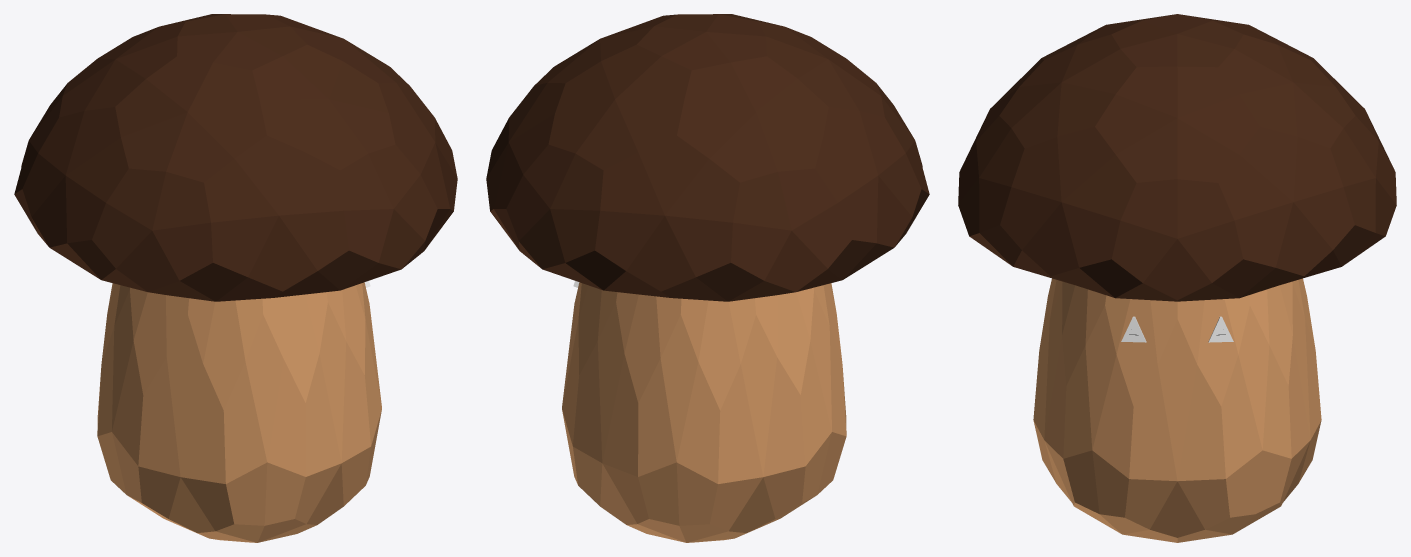
The model's file is mainPlayer.glb.
3 renders of one model, left to right at view 1: azimuth 30°, elevation 25°; view 2: azimuth 150°, elevation 25°; view 3: azimuth 270°, elevation 25°, orthographic.
Parts seen in each view (by area): view 1: Icosphere; view 2: Icosphere; view 3: Icosphere.
Boxes of the visible parts, x1,y1,x2,y2 form: Icosphere: [14, 14, 457, 542]; Icosphere: [486, 14, 929, 542]; Icosphere: [958, 14, 1396, 542].
Size of the model in its own units: 45.96 by 57.5 by 46.32.
